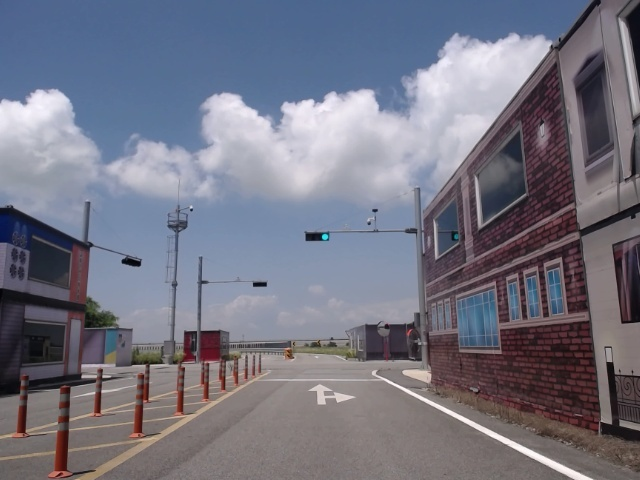green_3: (306, 233, 329, 240)
